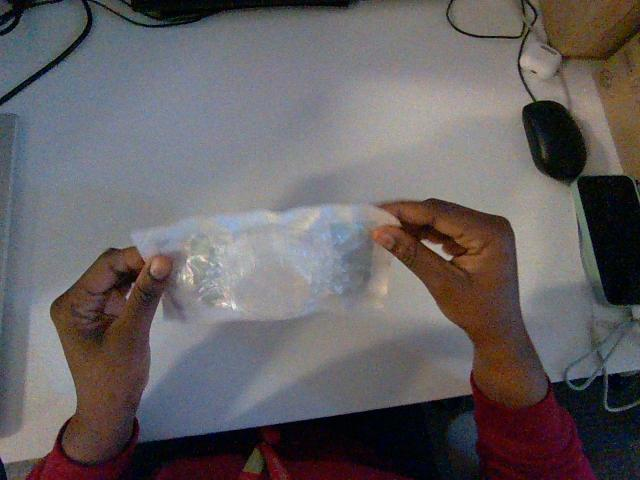gallipot: (132, 205, 398, 322)
